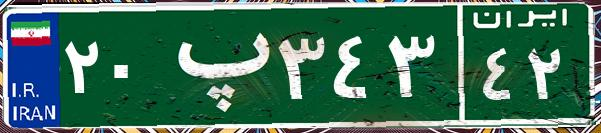0: (110, 28, 158, 105)
2: (57, 26, 110, 107), (525, 38, 570, 115)
3: (385, 28, 445, 110), (273, 28, 330, 110)
4: (330, 28, 385, 110), (475, 38, 525, 113)
پ: (158, 15, 273, 115)
